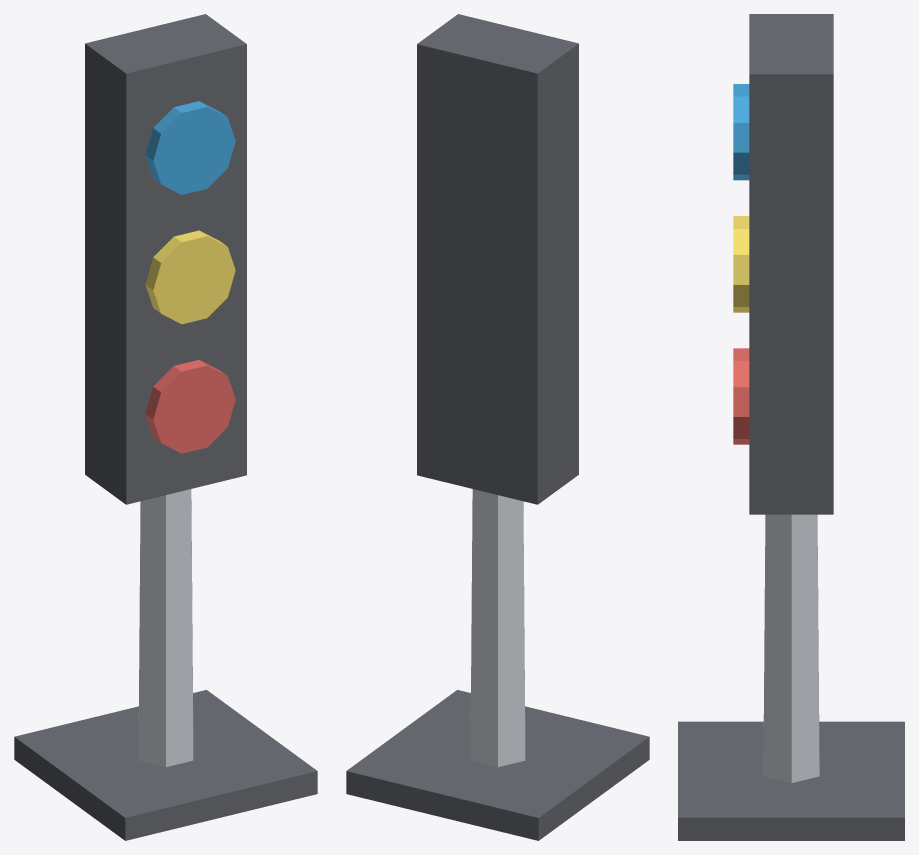
File: velodrome-and-track-cycling-start-light-tree-e0508ddc__37990.glb
3 renders of one model, left to right at view 1: azimuth 30°, elevation 25°; view 2: azimuth 150°, elevation 25°; view 3: azimuth 270°, elevation 25°, orthographic. The views are drawn at different scales.
Visible parts, largest first — view 1: start-light-tree-charcoal, start-light-tree-steel, start-light-tree-azure, start-light-tree-red, start-light-tree-canary; view 2: start-light-tree-charcoal, start-light-tree-steel; view 3: start-light-tree-charcoal, start-light-tree-steel, start-light-tree-red, start-light-tree-canary, start-light-tree-azure.
Boxes of the visible parts, x1,y1,x2,y2 form: start-light-tree-charcoal: (14,14,317,840); start-light-tree-steel: (138,489,193,767); start-light-tree-azure: (145,101,235,194); start-light-tree-red: (145,360,235,453); start-light-tree-canary: (145,230,235,324); start-light-tree-charcoal: (346,14,649,840); start-light-tree-steel: (470,489,525,767); start-light-tree-charcoal: (678,14,904,840); start-light-tree-steel: (763,514,819,783); start-light-tree-red: (733,348,749,444); start-light-tree-canary: (733,216,749,312); start-light-tree-azure: (733,84,749,180).
Size of the model in its own units: 0.7002 by 2.55 by 0.7002.
